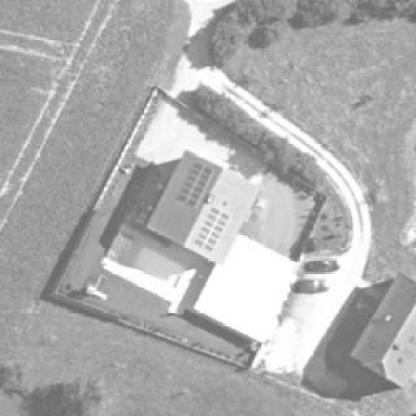solar-pv-panel: (194, 207, 230, 252), (177, 162, 212, 208)
